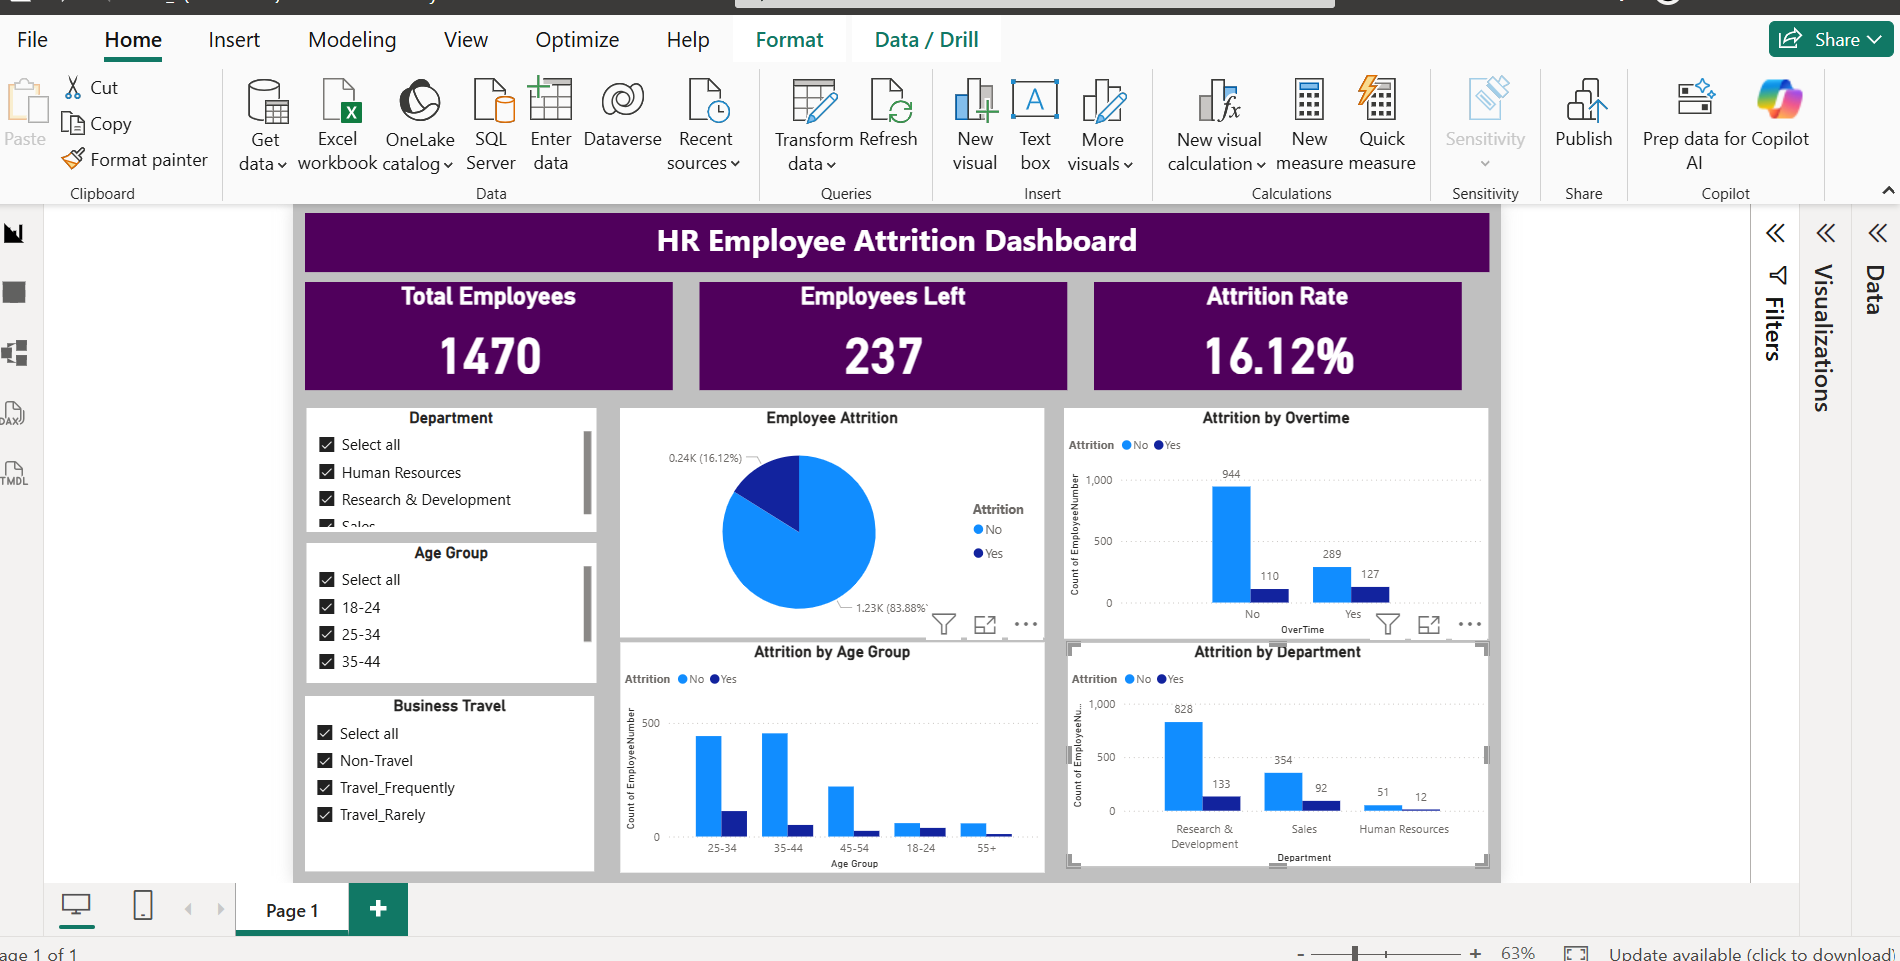

What the dashboard file says about the page in this screenshot:
{"tool":"powerbi","page":{"name":"Page 1","canvas":[1280,720],"ordinal":0},"visuals":[{"type":"card","title":"Total Employees","fields":{"Values":["WA_Fn-UseC_-HR-Employee-Attrition.Total Employees"]},"box":[13.3,83.2,389.7,114.6],"z":0},{"type":"card","title":"Employees Left","fields":{"Values":["WA_Fn-UseC_-HR-Employee-Attrition.Employees Left"]},"box":[430.7,83.2,389.7,114.6],"z":1000},{"type":"card","title":"Attrition Rate","fields":{"Values":["WA_Fn-UseC_-HR-Employee-Attrition.Attrition Rate"]},"box":[849.3,83.2,389.7,114.6],"z":2000},{"type":"textbox","box":[13.3,9.7,1255.9,62.7],"z":3000},{"type":"clusteredColumnChart","title":"Attrition by Department","fields":{"Category":["WA_Fn-UseC_-HR-Employee-Attrition.Department"],"Y":["CountNonNull(WA_Fn-UseC_-HR-Employee-Attrition.EmployeeNumber)"],"Series":["WA_Fn-UseC_-HR-Employee-Attrition.Attrition"]},"box":[820.8,464.5,447,238.6],"z":4000},{"type":"pieChart","title":"Employee Attrition","fields":{"Category":["WA_Fn-UseC_-HR-Employee-Attrition.Attrition"],"Y":["CountNonNull(WA_Fn-UseC_-HR-Employee-Attrition.EmployeeNumber)"]},"box":[346.8,216.3,450.1,243.4],"z":5000},{"type":"clusteredColumnChart","title":"Attrition by Age Group","fields":{"Category":["WA_Fn-UseC_-HR-Employee-Attrition.Age Group"],"Y":["CountNonNull(WA_Fn-UseC_-HR-Employee-Attrition.EmployeeNumber)"],"Series":["WA_Fn-UseC_-HR-Employee-Attrition.Attrition"]},"box":[346.8,464.5,450.1,245],"z":6000},{"type":"clusteredColumnChart","title":"Attrition by Overtime","fields":{"Category":["WA_Fn-UseC_-HR-Employee-Attrition.OverTime"],"Y":["CountNonNull(WA_Fn-UseC_-HR-Employee-Attrition.EmployeeNumber)"],"Series":["WA_Fn-UseC_-HR-Employee-Attrition.Attrition"]},"box":[817.6,216.3,450.1,245],"z":7000},{"type":"slicer","title":"Department","fields":{"Values":["WA_Fn-UseC_-HR-Employee-Attrition.Department"]},"box":[14.3,216.3,307,130.4],"z":8000},{"type":"slicer","title":"Age Group","fields":{"Values":["WA_Fn-UseC_-HR-Employee-Attrition.Age Group"]},"box":[14.3,359.5,307,147.9],"z":9000},{"type":"slicer","title":"Business Travel","fields":{"Values":["WA_Fn-UseC_-HR-Employee-Attrition.BusinessTravel"]},"box":[12.7,521.7,307,186.1],"z":10000}]}

Visuals, with their boxes on the page's 1280x720 design canvas (x1, y1, x2, y2). These are canvas units, not pixel positions in the 1900x961 screenshot, which may show the page scaled, cropped or inside an application window:
"Total Employees" card: box=[13, 83, 403, 198]
"Employees Left" card: box=[431, 83, 820, 198]
"Attrition Rate" card: box=[849, 83, 1239, 198]
textbox: box=[13, 10, 1269, 72]
"Attrition by Department" clusteredColumnChart: box=[821, 464, 1268, 703]
"Employee Attrition" pieChart: box=[347, 216, 797, 460]
"Attrition by Age Group" clusteredColumnChart: box=[347, 464, 797, 710]
"Attrition by Overtime" clusteredColumnChart: box=[818, 216, 1268, 461]
"Department" slicer: box=[14, 216, 321, 347]
"Age Group" slicer: box=[14, 360, 321, 507]
"Business Travel" slicer: box=[13, 522, 320, 708]
